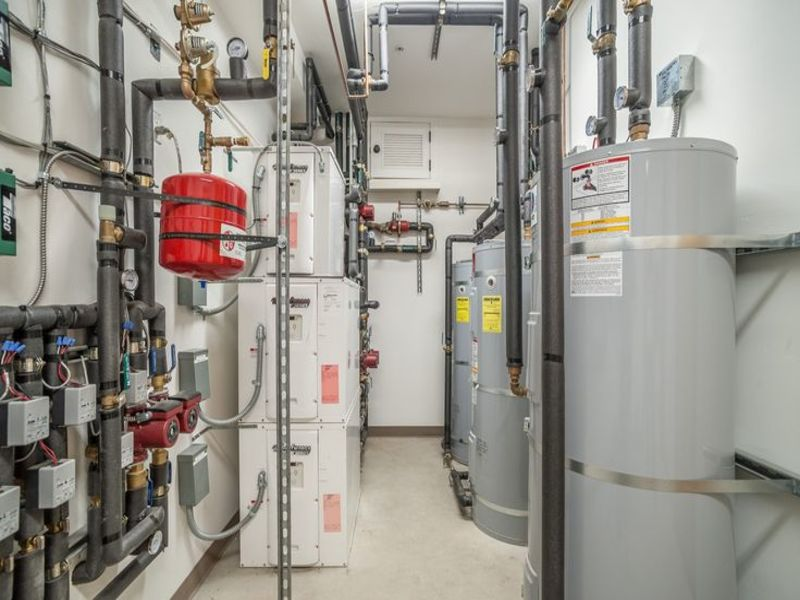valve: (160, 332, 189, 388), (258, 34, 283, 92)
